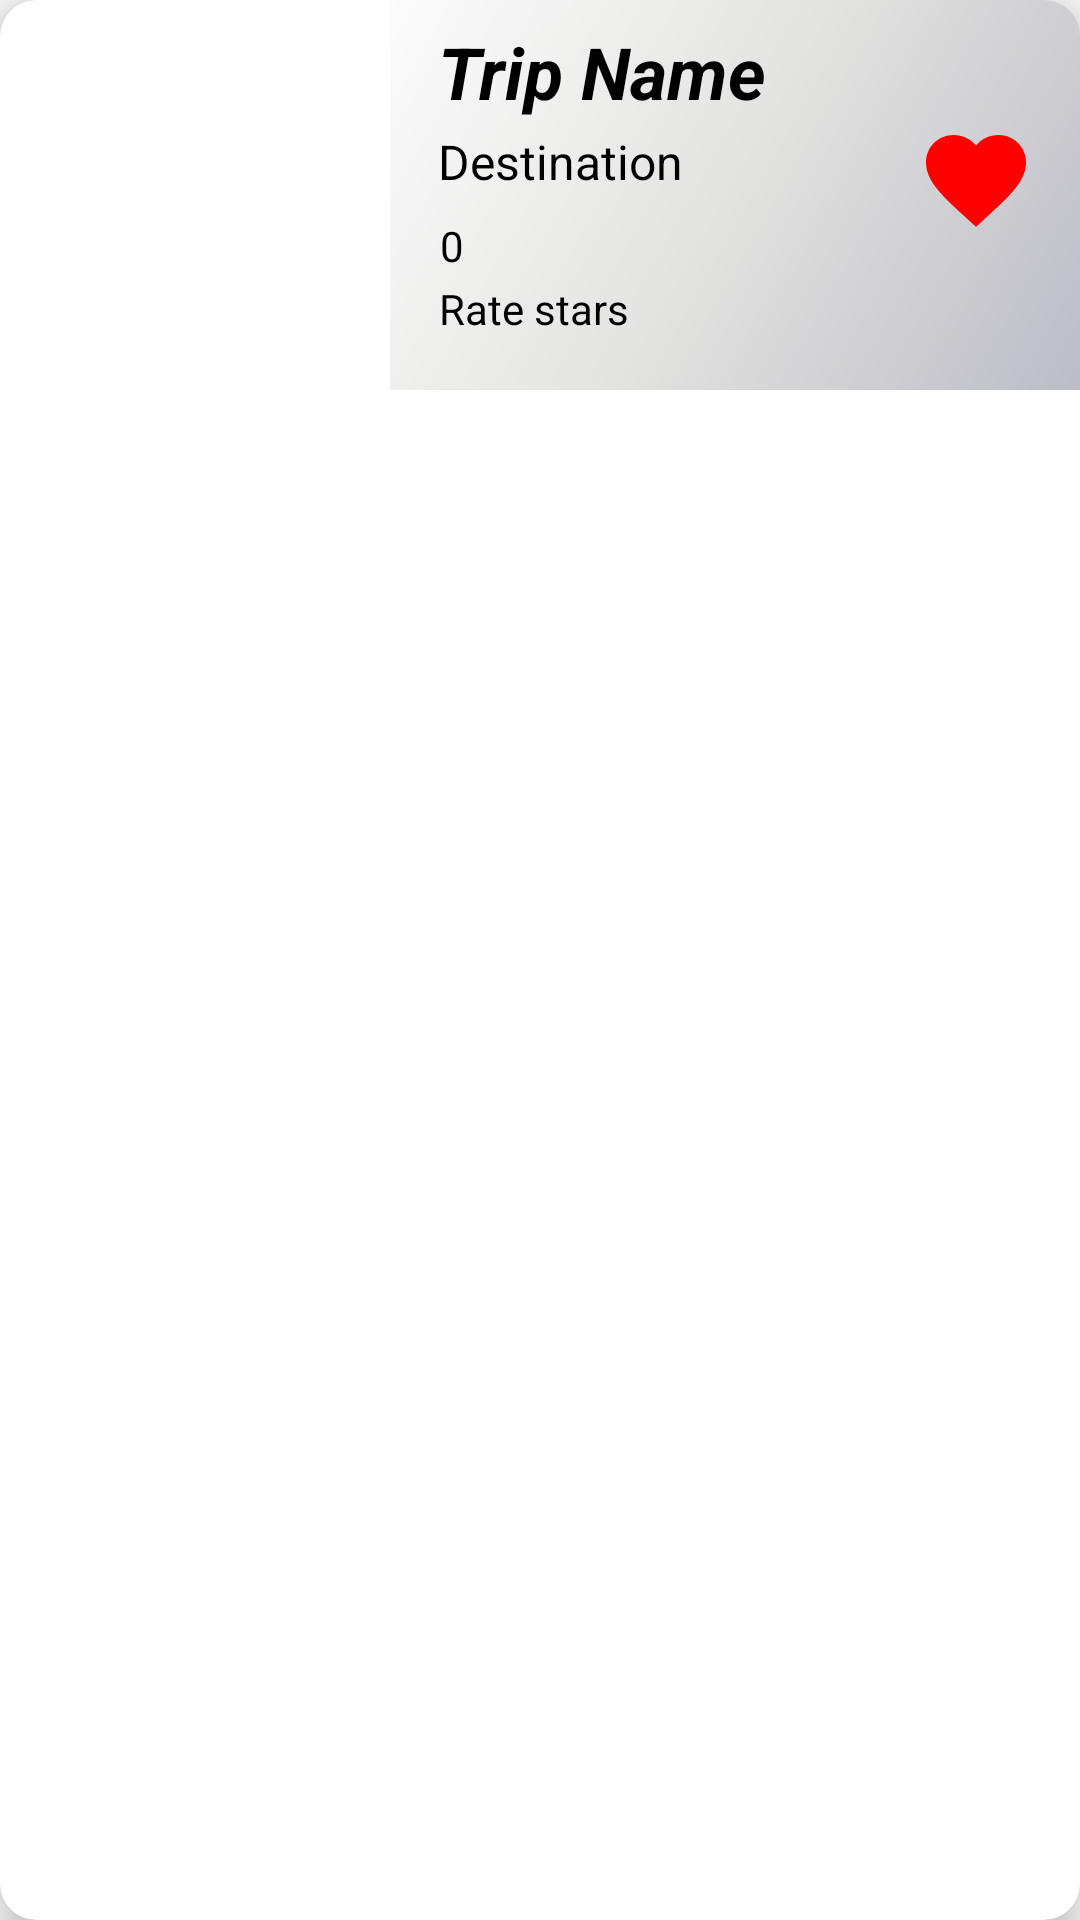

Icon click points for this 1080 x 1920 phone screenshot, format point (x, y):
is favorite: point (976, 181)
